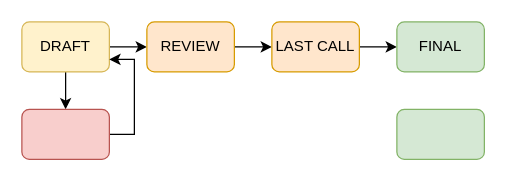
Image size: 506x181. Some labels were removed from this diagram. Here are the shapes that lost their labels. From the top down, the centre of each, then its label:
At (65,133): "REJECTED".
At (440,133): "LIVING".
